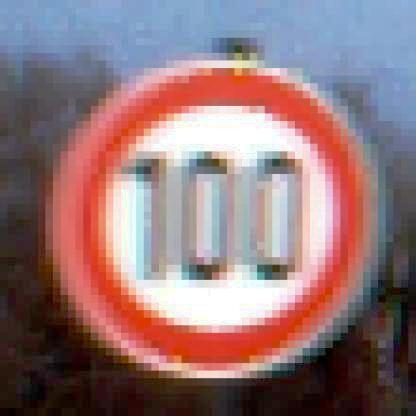Speed Limit -100-: (46, 55, 388, 384)
